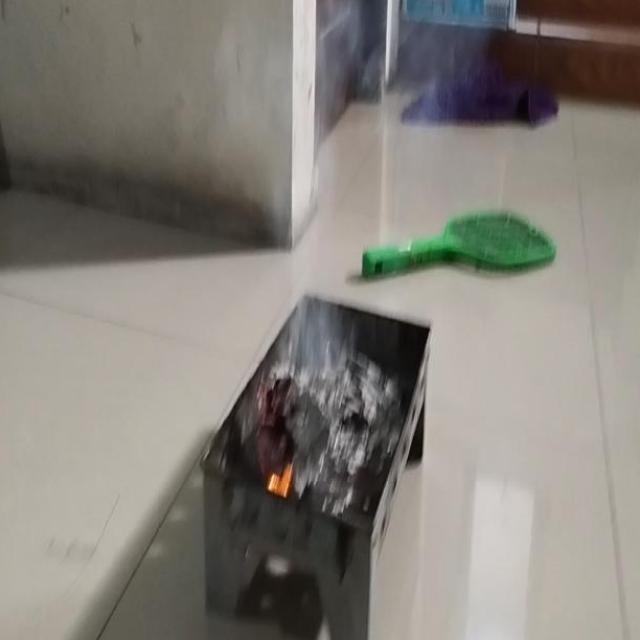fire: (288, 269, 342, 372)
